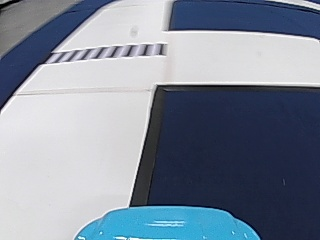CrossWalk: (54, 43, 166, 60)
